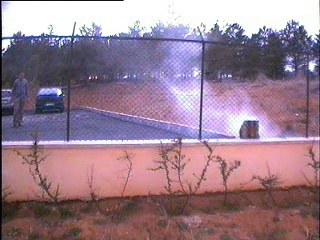smoke: (148, 27, 290, 142)
